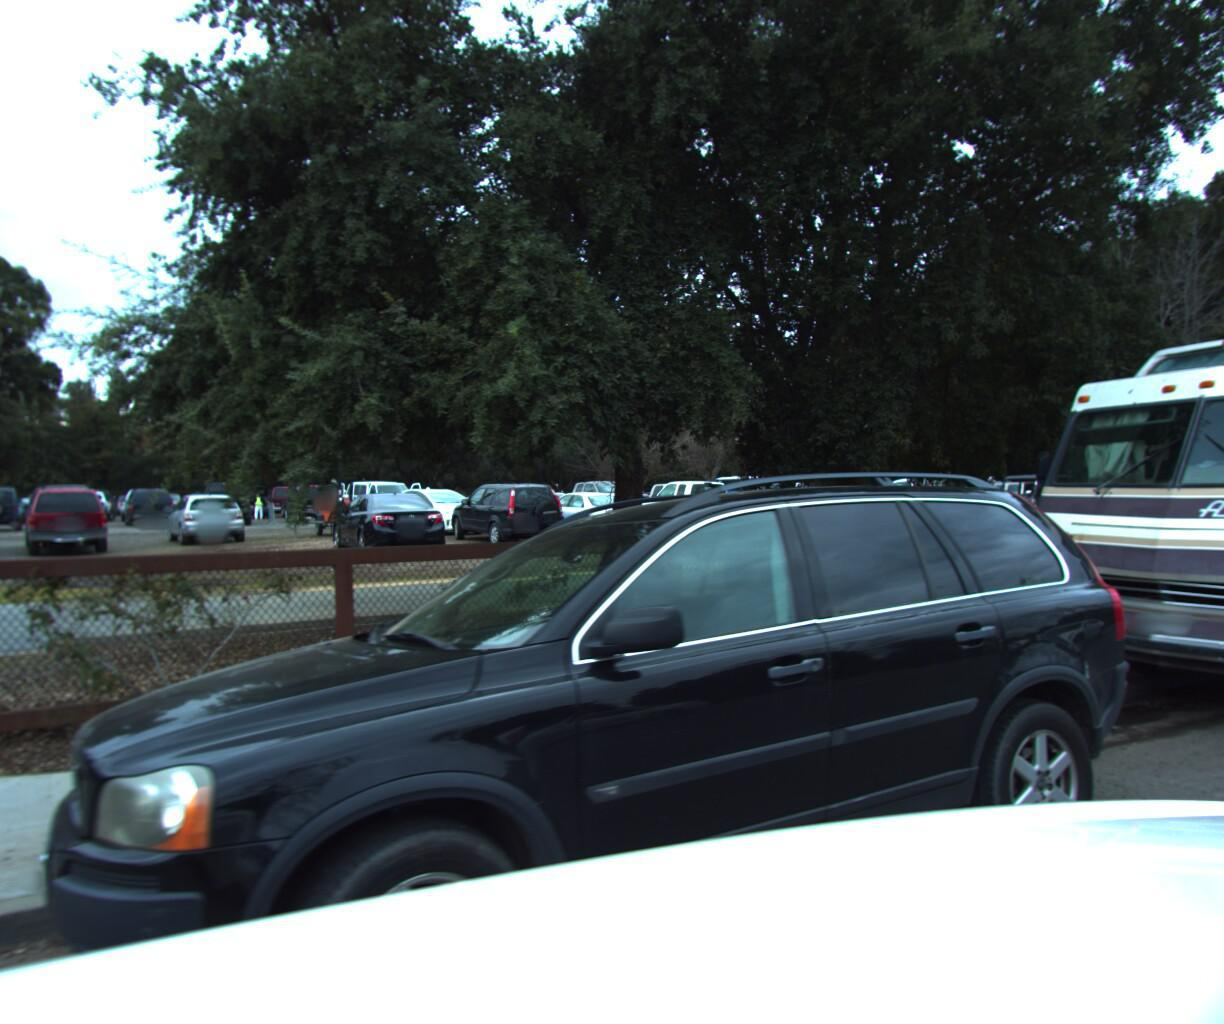car: (0, 458, 1185, 1024)
other_vehicle: (988, 180, 1224, 788)
